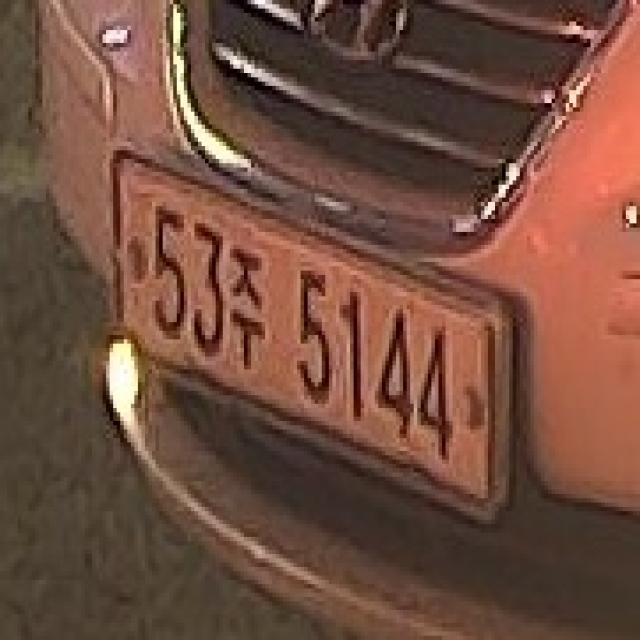1: (329, 275, 375, 425)
3: (191, 202, 233, 378)
4: (414, 305, 463, 468), (382, 283, 421, 451)
5: (286, 258, 340, 417), (148, 198, 191, 348)
ju: (226, 232, 272, 378)
license_plate: (89, 137, 516, 537)
